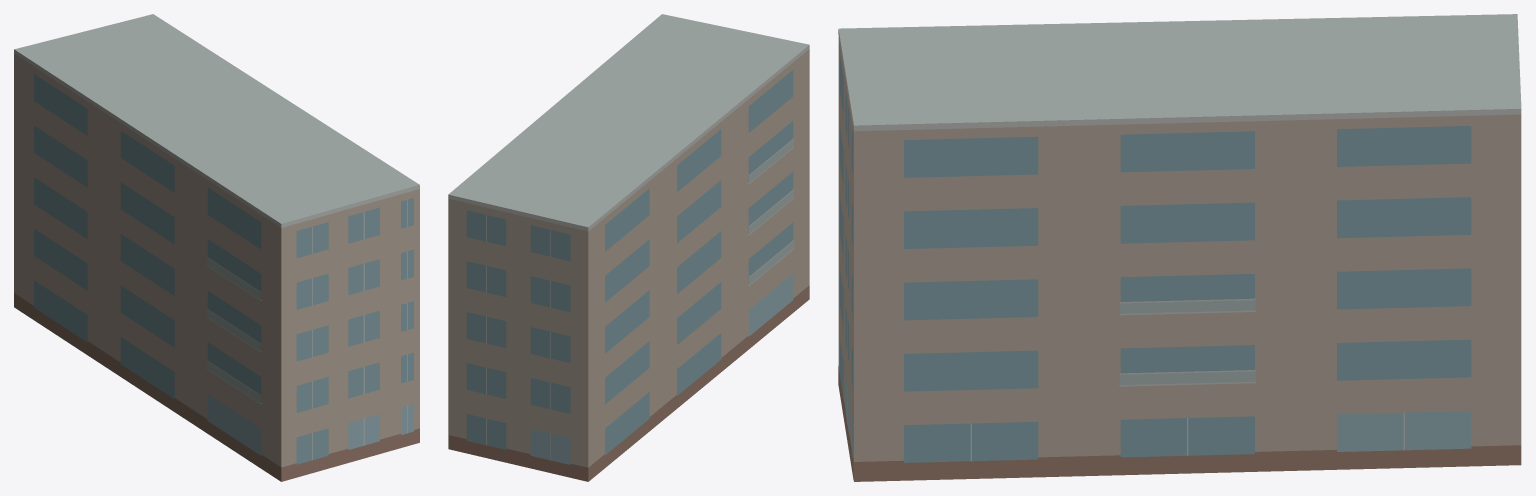
The model's file is survey-upis-32747171.glb.
3 renders of one model, left to right at view 1: azimuth 30°, elevation 25°; view 2: azimuth 150°, elevation 25°; view 3: azimuth 270°, elevation 25°, orthographic. The views are drawn at different scales.
Visible parts, largest first — view 1: survey-upis-32747171.tmp; view 2: survey-upis-32747171.tmp; view 3: survey-upis-32747171.tmp.
Boxes of the visible parts, <box> form: survey-upis-32747171.tmp: <box>14,14,419,481</box>; survey-upis-32747171.tmp: <box>448,14,809,481</box>; survey-upis-32747171.tmp: <box>838,14,1521,481</box>.
Bounding box in the file's own units: 10.28 × 15.3 × 26.59.
